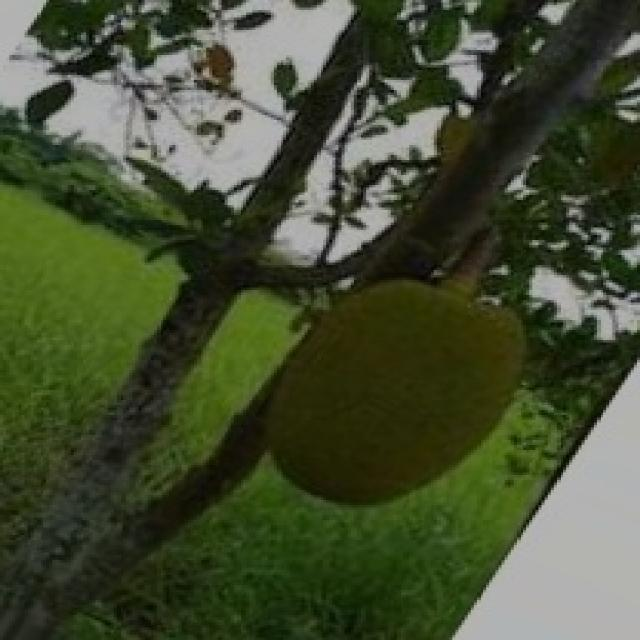Fruit: (221, 252, 557, 540)
